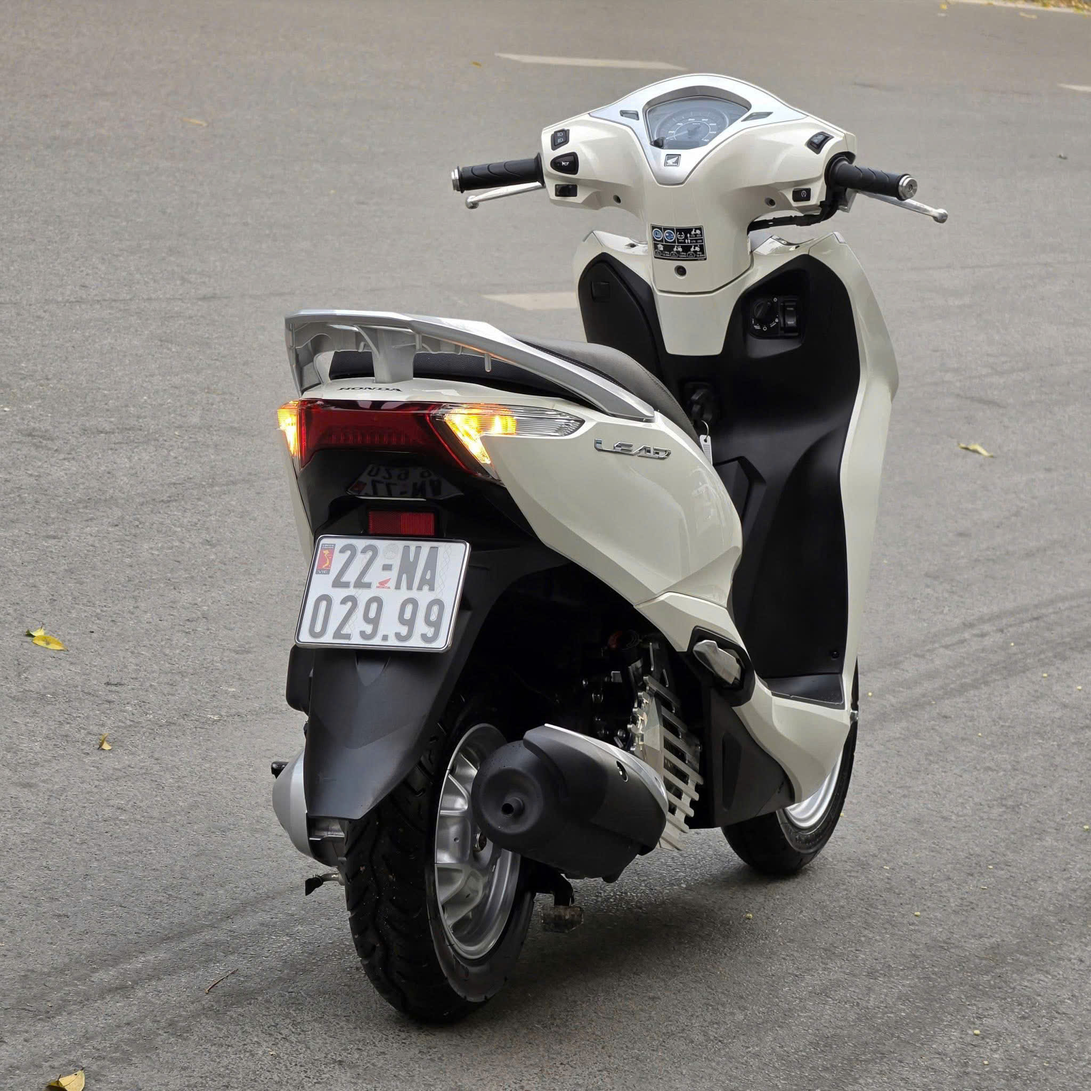Bien-so: (300, 538, 473, 650)
